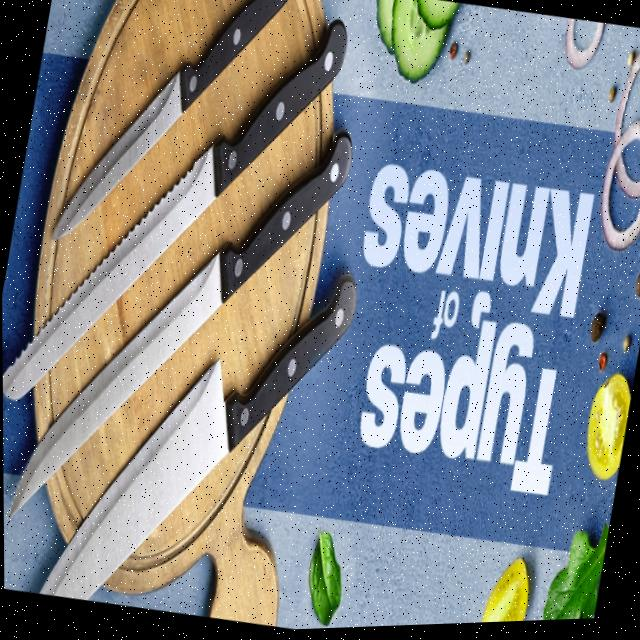knife: (3, 83, 358, 570), (0, 0, 353, 450), (33, 235, 364, 639), (48, 0, 299, 279)
